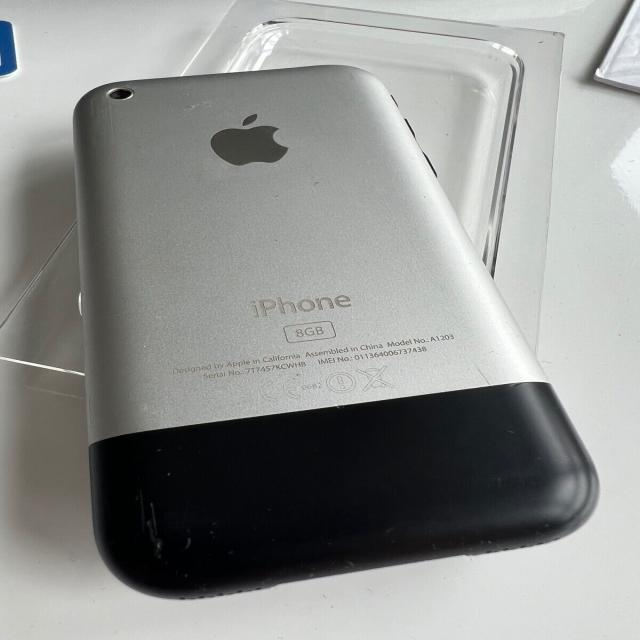Dents: (301, 177, 338, 210)
Scratches: (135, 493, 193, 566)
